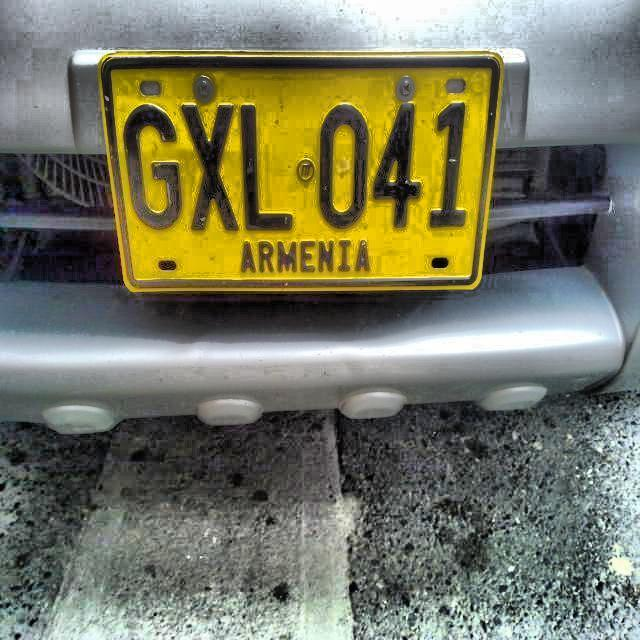plate: (103, 58, 500, 289)
